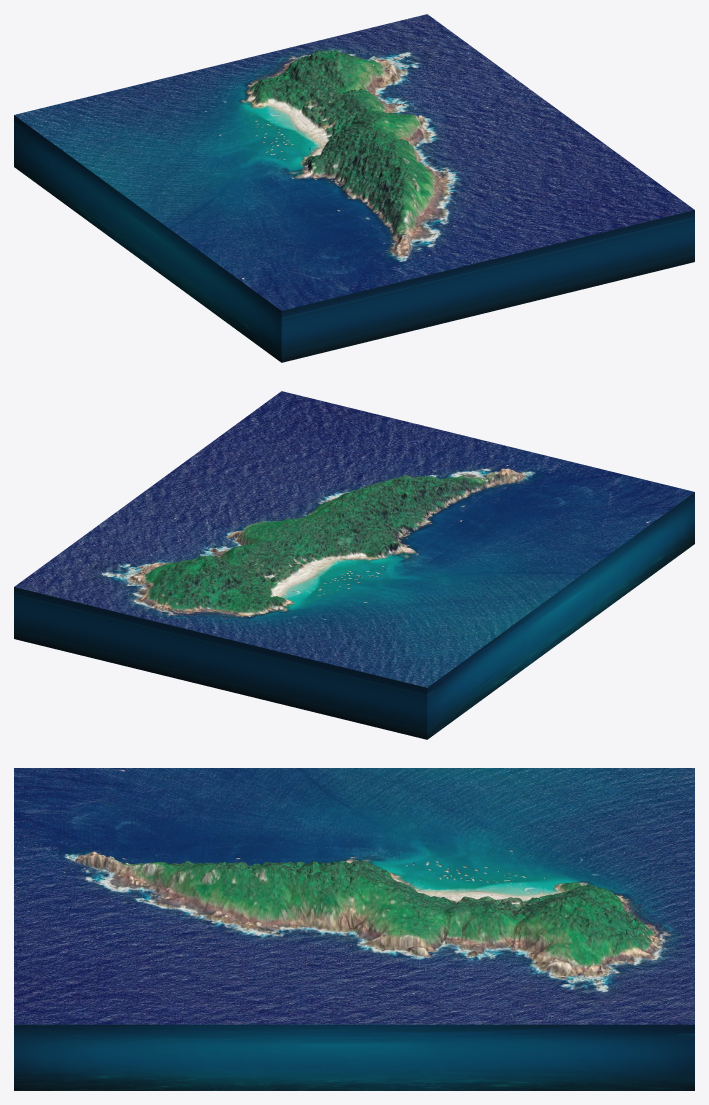
File: ilha.glb
The picture shows the model from 3 angles, top to bottom: view 1: azimuth 30°, elevation 25°; view 2: azimuth 150°, elevation 25°; view 3: azimuth 270°, elevation 25°; orthographic projection. The views are drawn at different scales.
Size of the model in its own units: 0.5 by 0.0972 by 0.5607.
2 materials, 2 textured.
